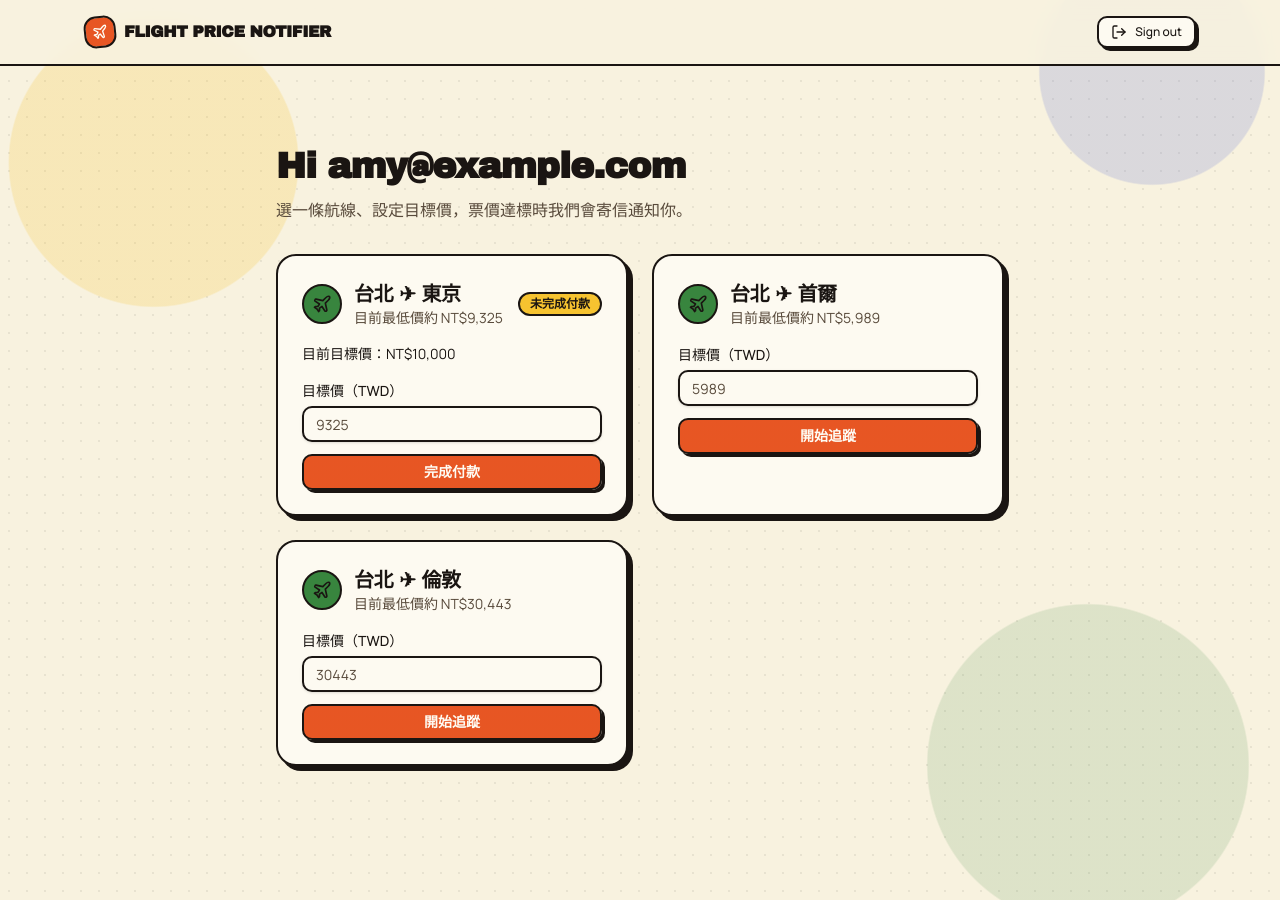
Scenario: Dashboard subscribed state › 完成付款 shows an error when the backend has no /checkout yet
Click the button "完成付款". click: (452, 472)
box: [302, 454, 602, 490]
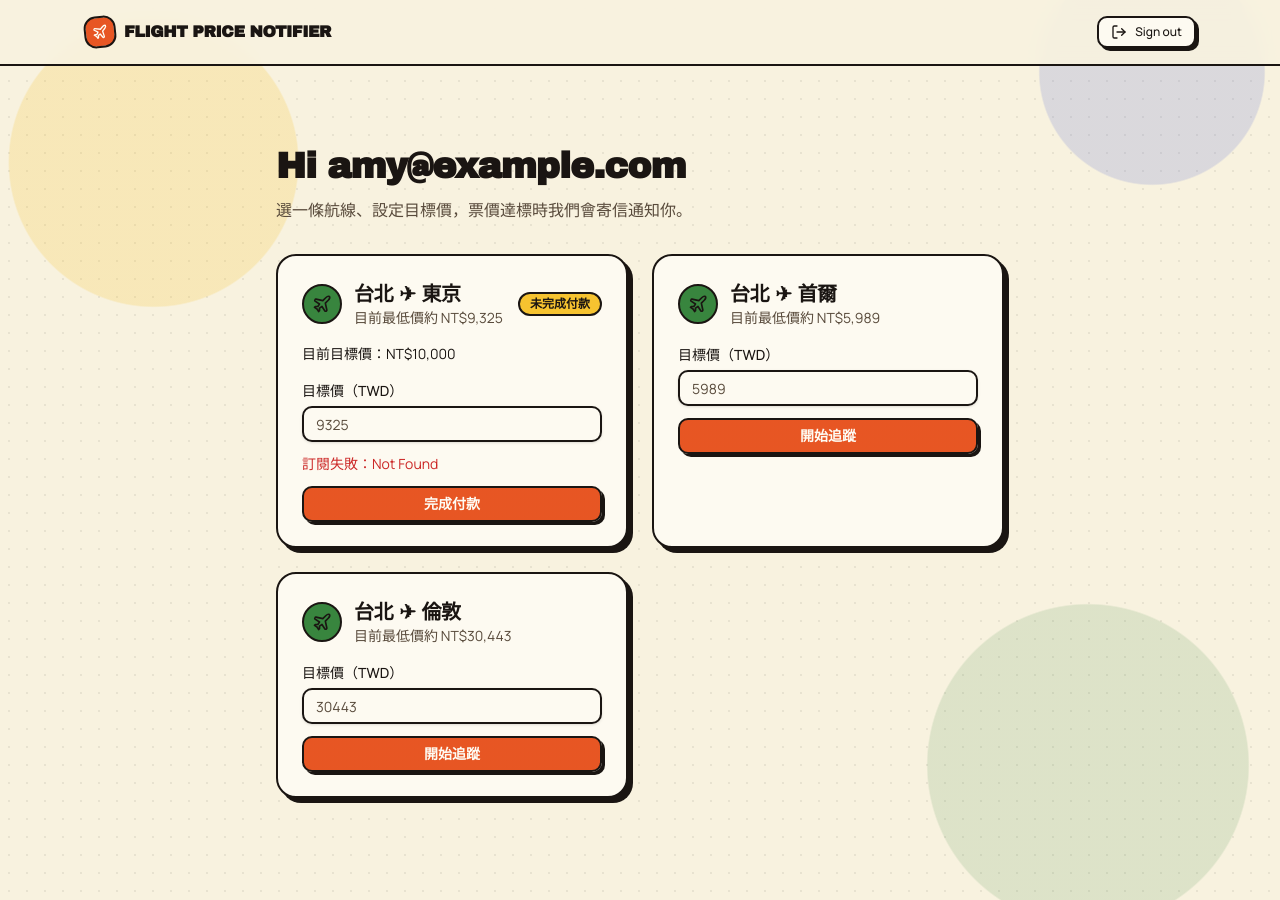
Result: the message shows "訂閱失敗" at [302, 454, 438, 473]
